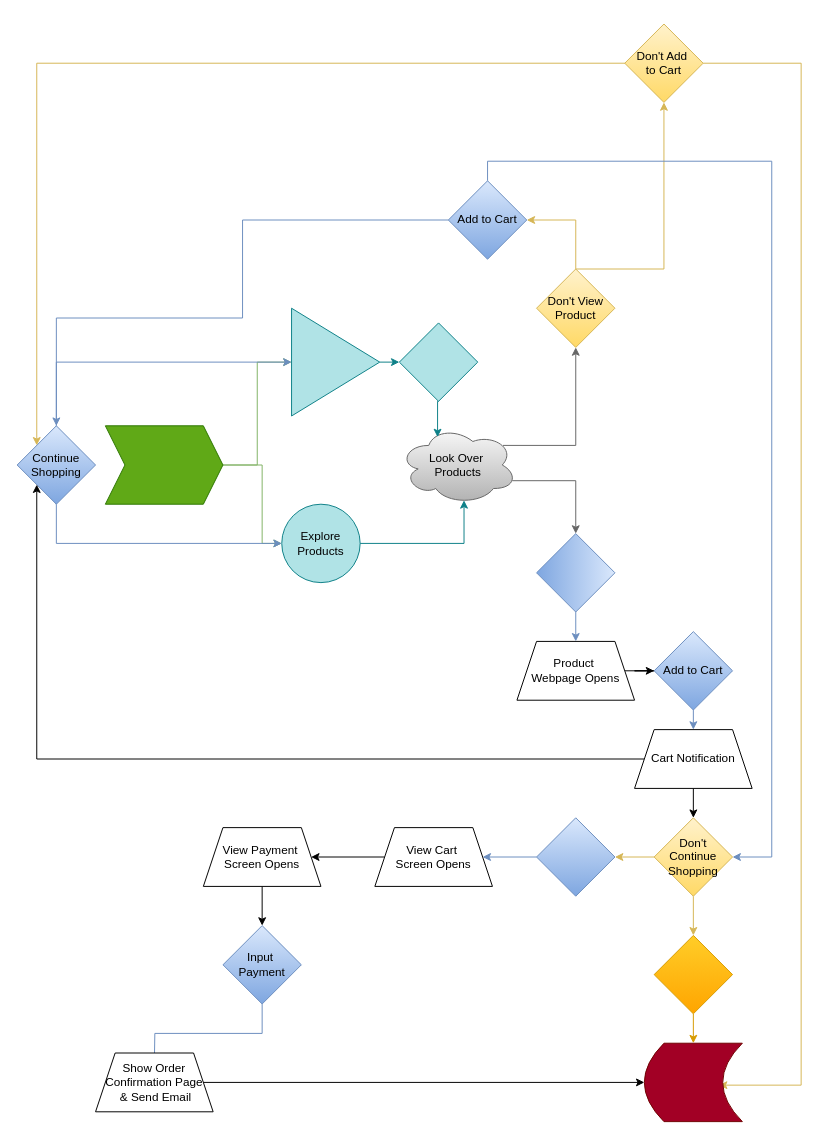
The diagram is 826 pixels wide and 1139 high, and some of its shapes have lost their labels. The centre of each missing label's shape, as x and y in pixels:
"Checkout" belongs at point (575, 856).
"Don't Checkout" belongs at point (693, 974).
"Enter Website" belongs at point (163, 464).
"Leave Site" belongs at point (692, 1082).
"Search for Product" belongs at point (335, 361).
"Search Input" belongs at point (438, 361).
"View Product" belongs at point (575, 572).
